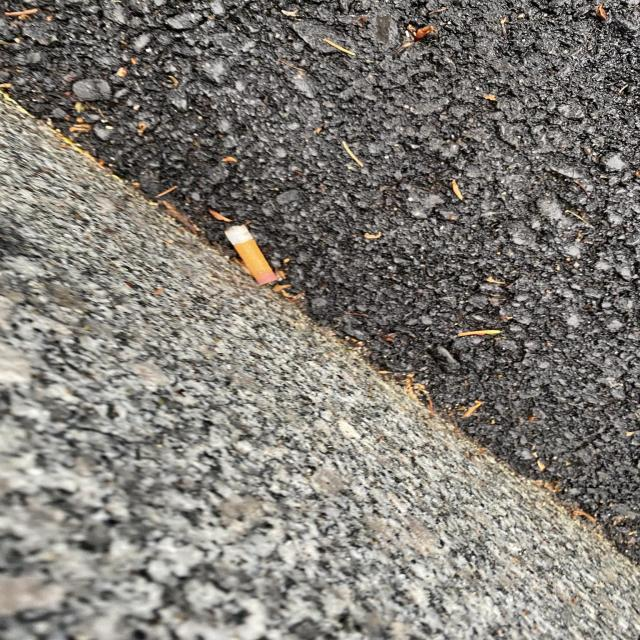other waste: (223, 224, 278, 287)
